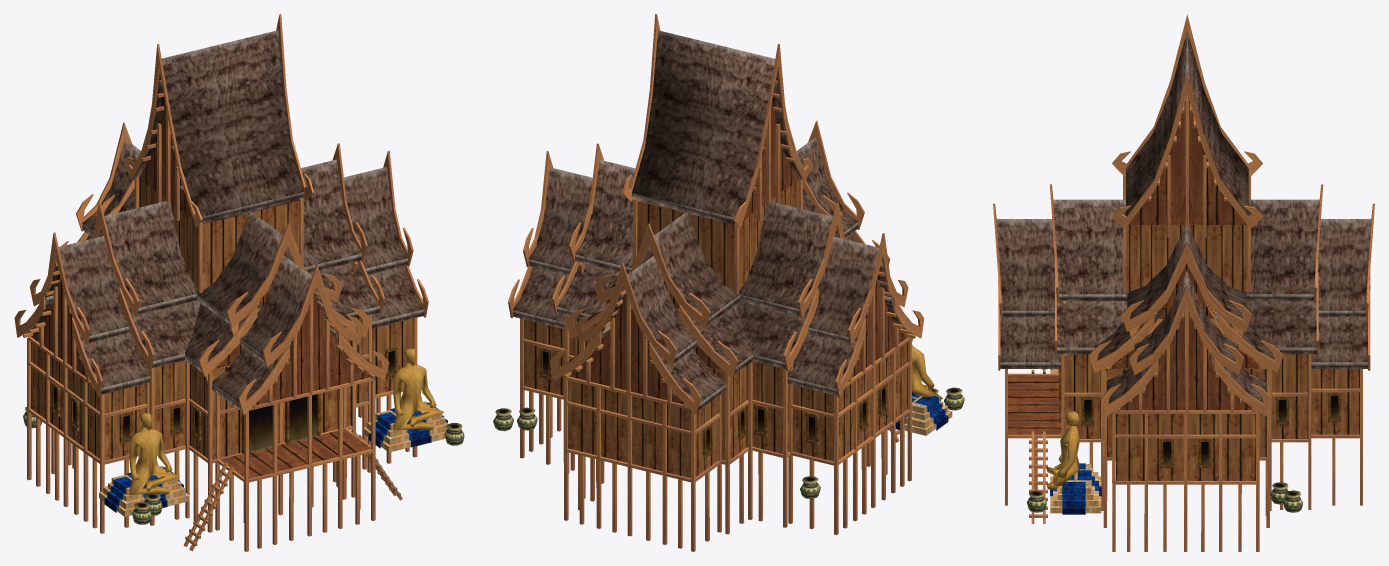
The model's file is vihara.dae.
The picture shows the model from 3 angles, left to right: view 1: azimuth 30°, elevation 25°; view 2: azimuth 150°, elevation 25°; view 3: azimuth 270°, elevation 25°; orthographic projection. The views are drawn at different scales.
Parts seen in each view (by area): view 1: vihara; view 2: vihara; view 3: vihara.
Part boxes in pixels (x1,y1,x2,y2): vihara: [14, 14, 464, 551]; vihara: [493, 14, 964, 551]; vihara: [993, 14, 1374, 551].
Size of the model in its own units: 25.47 by 25.46 by 31.75.
